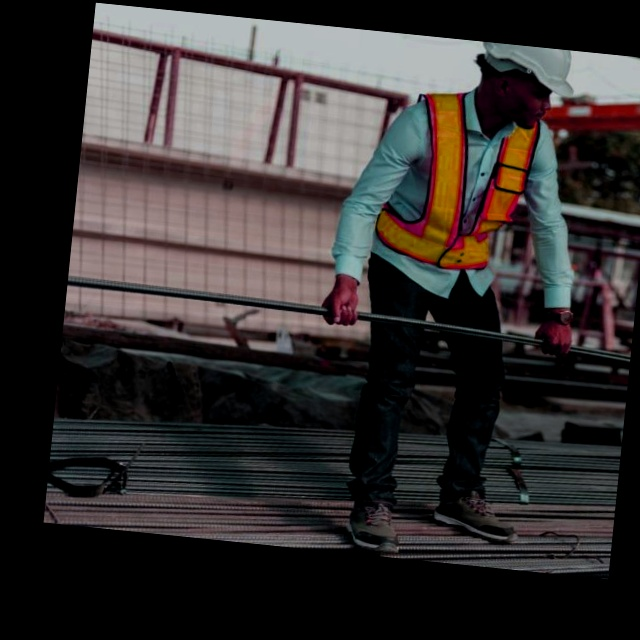Con_Chaleco: (377, 89, 536, 273)
